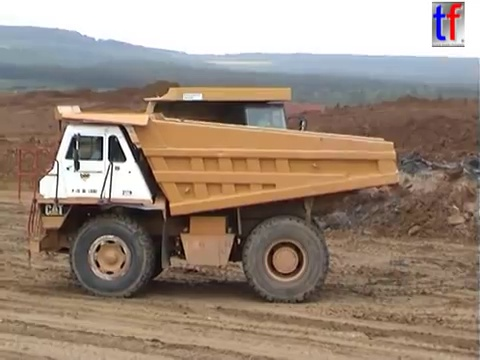truck: (14, 101, 401, 304), (73, 83, 311, 249)
